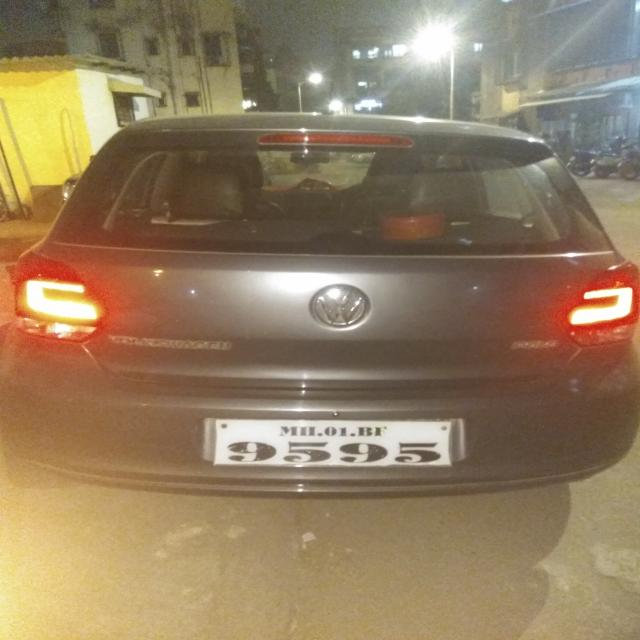Number-Plate: (217, 418, 458, 470)
